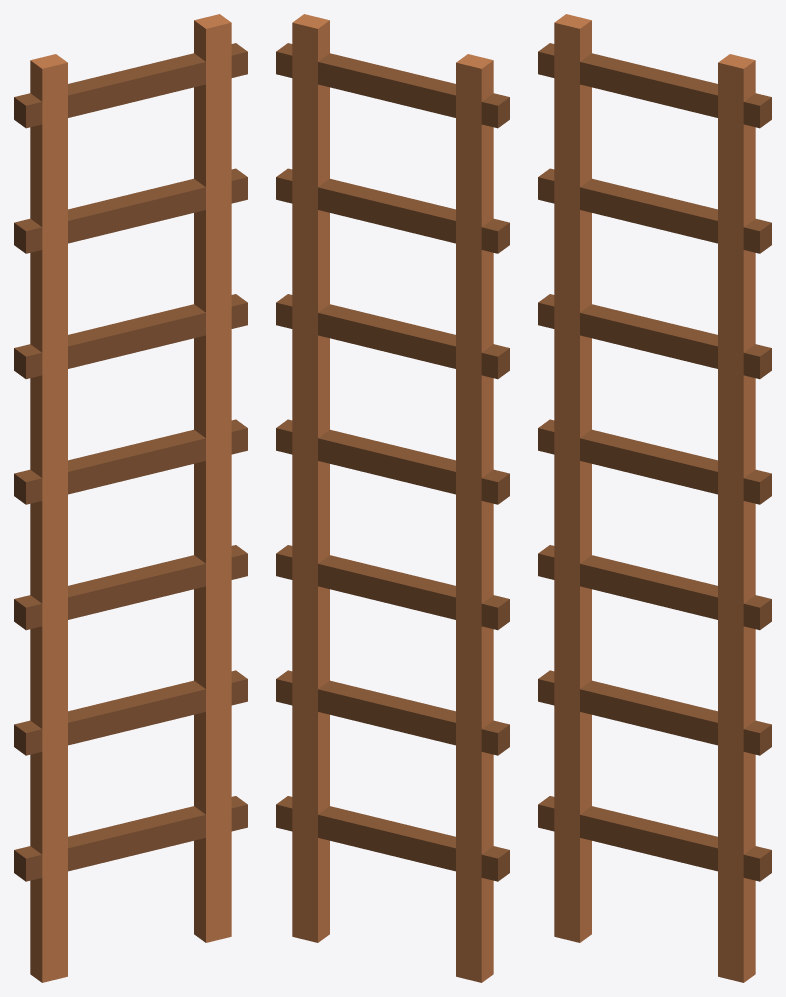
Rendered from ladder_broken.fbx.
3 renders of one model, left to right at view 1: azimuth 30°, elevation 25°; view 2: azimuth 150°, elevation 25°; view 3: azimuth 330°, elevation 25°, orthographic.
Visible parts, largest first — view 1: ladder_Part_7, ladder_Part_12, ladder_Part_11, ladder_Part_6, ladder_Part_4, ladder_Part_1, ladder_Part_5, ladder_Part_3, ladder_Part_10, ladder_Part_2, ladder_Part_9; view 2: ladder_Part_7, ladder_Part_12, ladder_Part_11, ladder_Part_6, ladder_Part_4, ladder_Part_1, ladder_Part_5, ladder_Part_3, ladder_Part_10, ladder_Part_2, ladder_Part_9, ladder_Part_8; view 3: ladder_Part_7, ladder_Part_12, ladder_Part_11, ladder_Part_6, ladder_Part_4, ladder_Part_1, ladder_Part_5, ladder_Part_3, ladder_Part_10, ladder_Part_2, ladder_Part_9.
Part boxes in pixels (x1,y1,x2,y2): ladder_Part_7: (14, 744, 247, 982); ladder_Part_12: (95, 14, 247, 226); ladder_Part_11: (14, 54, 135, 301); ladder_Part_6: (14, 434, 182, 620); ladder_Part_4: (14, 606, 142, 808); ladder_Part_1: (92, 435, 247, 612); ladder_Part_5: (93, 305, 247, 457); ladder_Part_3: (126, 615, 247, 761); ladder_Part_10: (14, 292, 105, 442); ladder_Part_2: (189, 218, 247, 350); ladder_Part_9: (194, 545, 247, 618); ladder_Part_7: (276, 745, 509, 982); ladder_Part_12: (276, 14, 426, 227); ladder_Part_11: (389, 54, 509, 300); ladder_Part_6: (342, 434, 509, 621); ladder_Part_4: (382, 607, 509, 806); ladder_Part_1: (276, 434, 431, 612); ladder_Part_5: (276, 306, 429, 457); ladder_Part_3: (276, 609, 396, 760); ladder_Part_10: (419, 293, 509, 441); ladder_Part_2: (276, 218, 337, 346); ladder_Part_9: (276, 545, 329, 613); ladder_Part_8: (292, 601, 324, 633); ladder_Part_7: (538, 746, 771, 982); ladder_Part_12: (620, 54, 771, 263); ladder_Part_11: (538, 14, 653, 263); ladder_Part_6: (538, 391, 694, 585); ladder_Part_4: (538, 567, 661, 762); ladder_Part_1: (606, 480, 771, 624); ladder_Part_5: (617, 313, 771, 488); ladder_Part_3: (651, 652, 771, 807); ladder_Part_10: (538, 254, 628, 400); ladder_Part_2: (710, 257, 771, 397); ladder_Part_9: (718, 588, 771, 656).
Bounding box in the file's own units: 86.39 × 340 × 8.
1 material, 1 textured.
